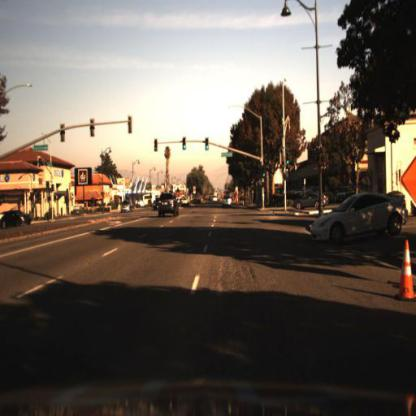car: (309, 186, 410, 243), (293, 186, 331, 216), (154, 188, 187, 222), (2, 208, 31, 231), (116, 198, 134, 219), (150, 196, 162, 216), (221, 193, 233, 210)
trafficLight-Green: (285, 154, 292, 170), (182, 138, 187, 154), (262, 167, 267, 183), (205, 141, 211, 153)
